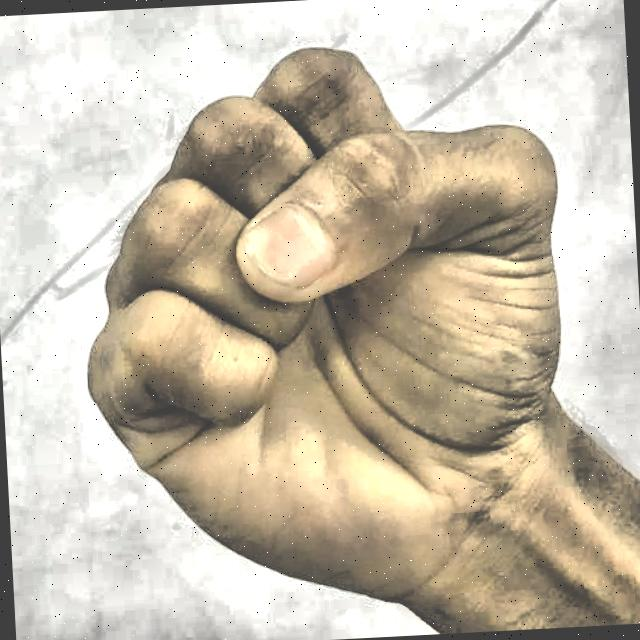Sha: (32, 11, 599, 640)
